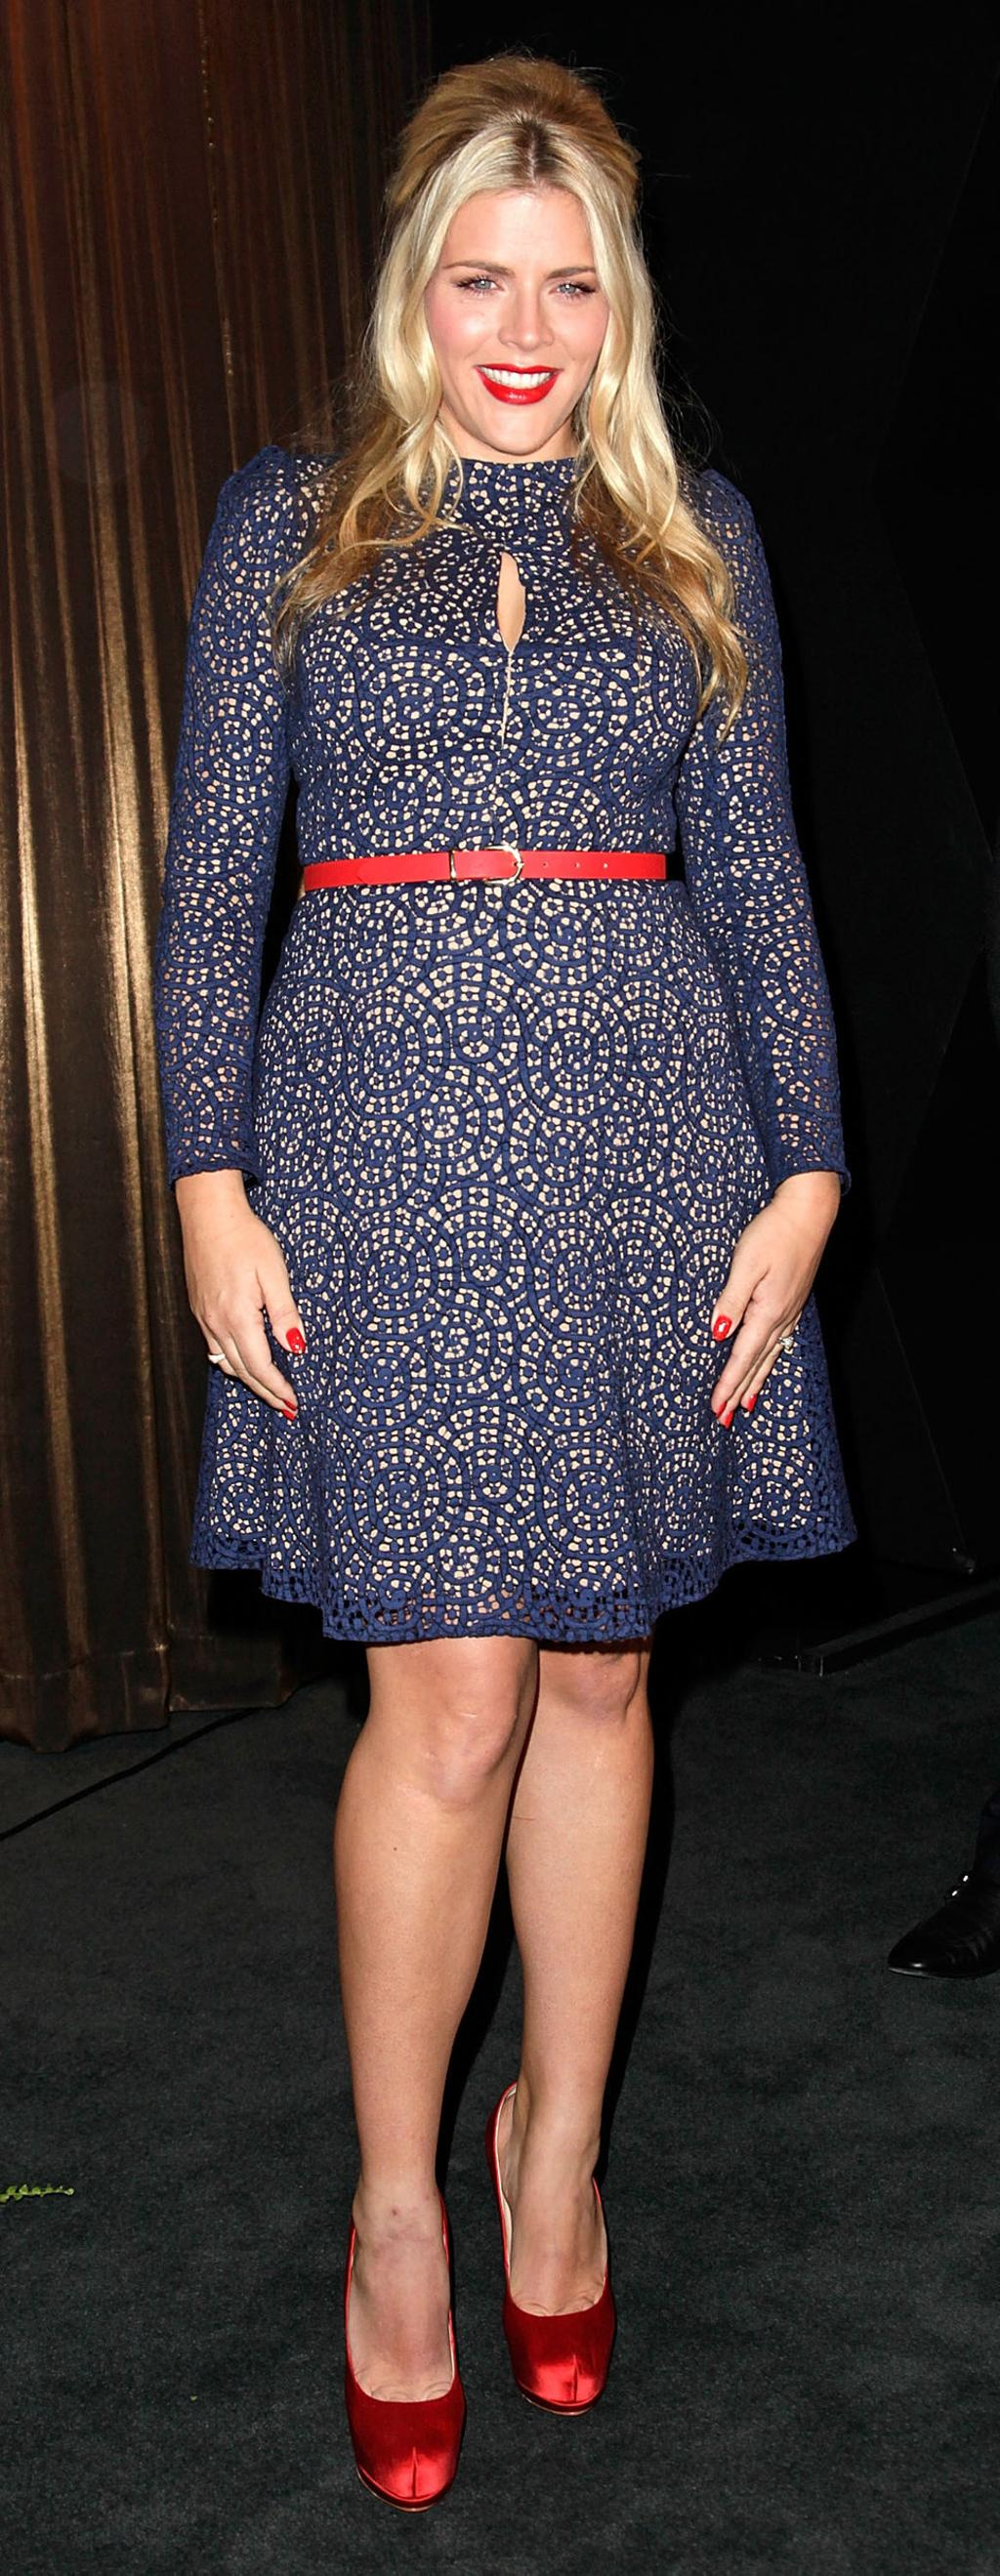face: (427, 171, 598, 452)
